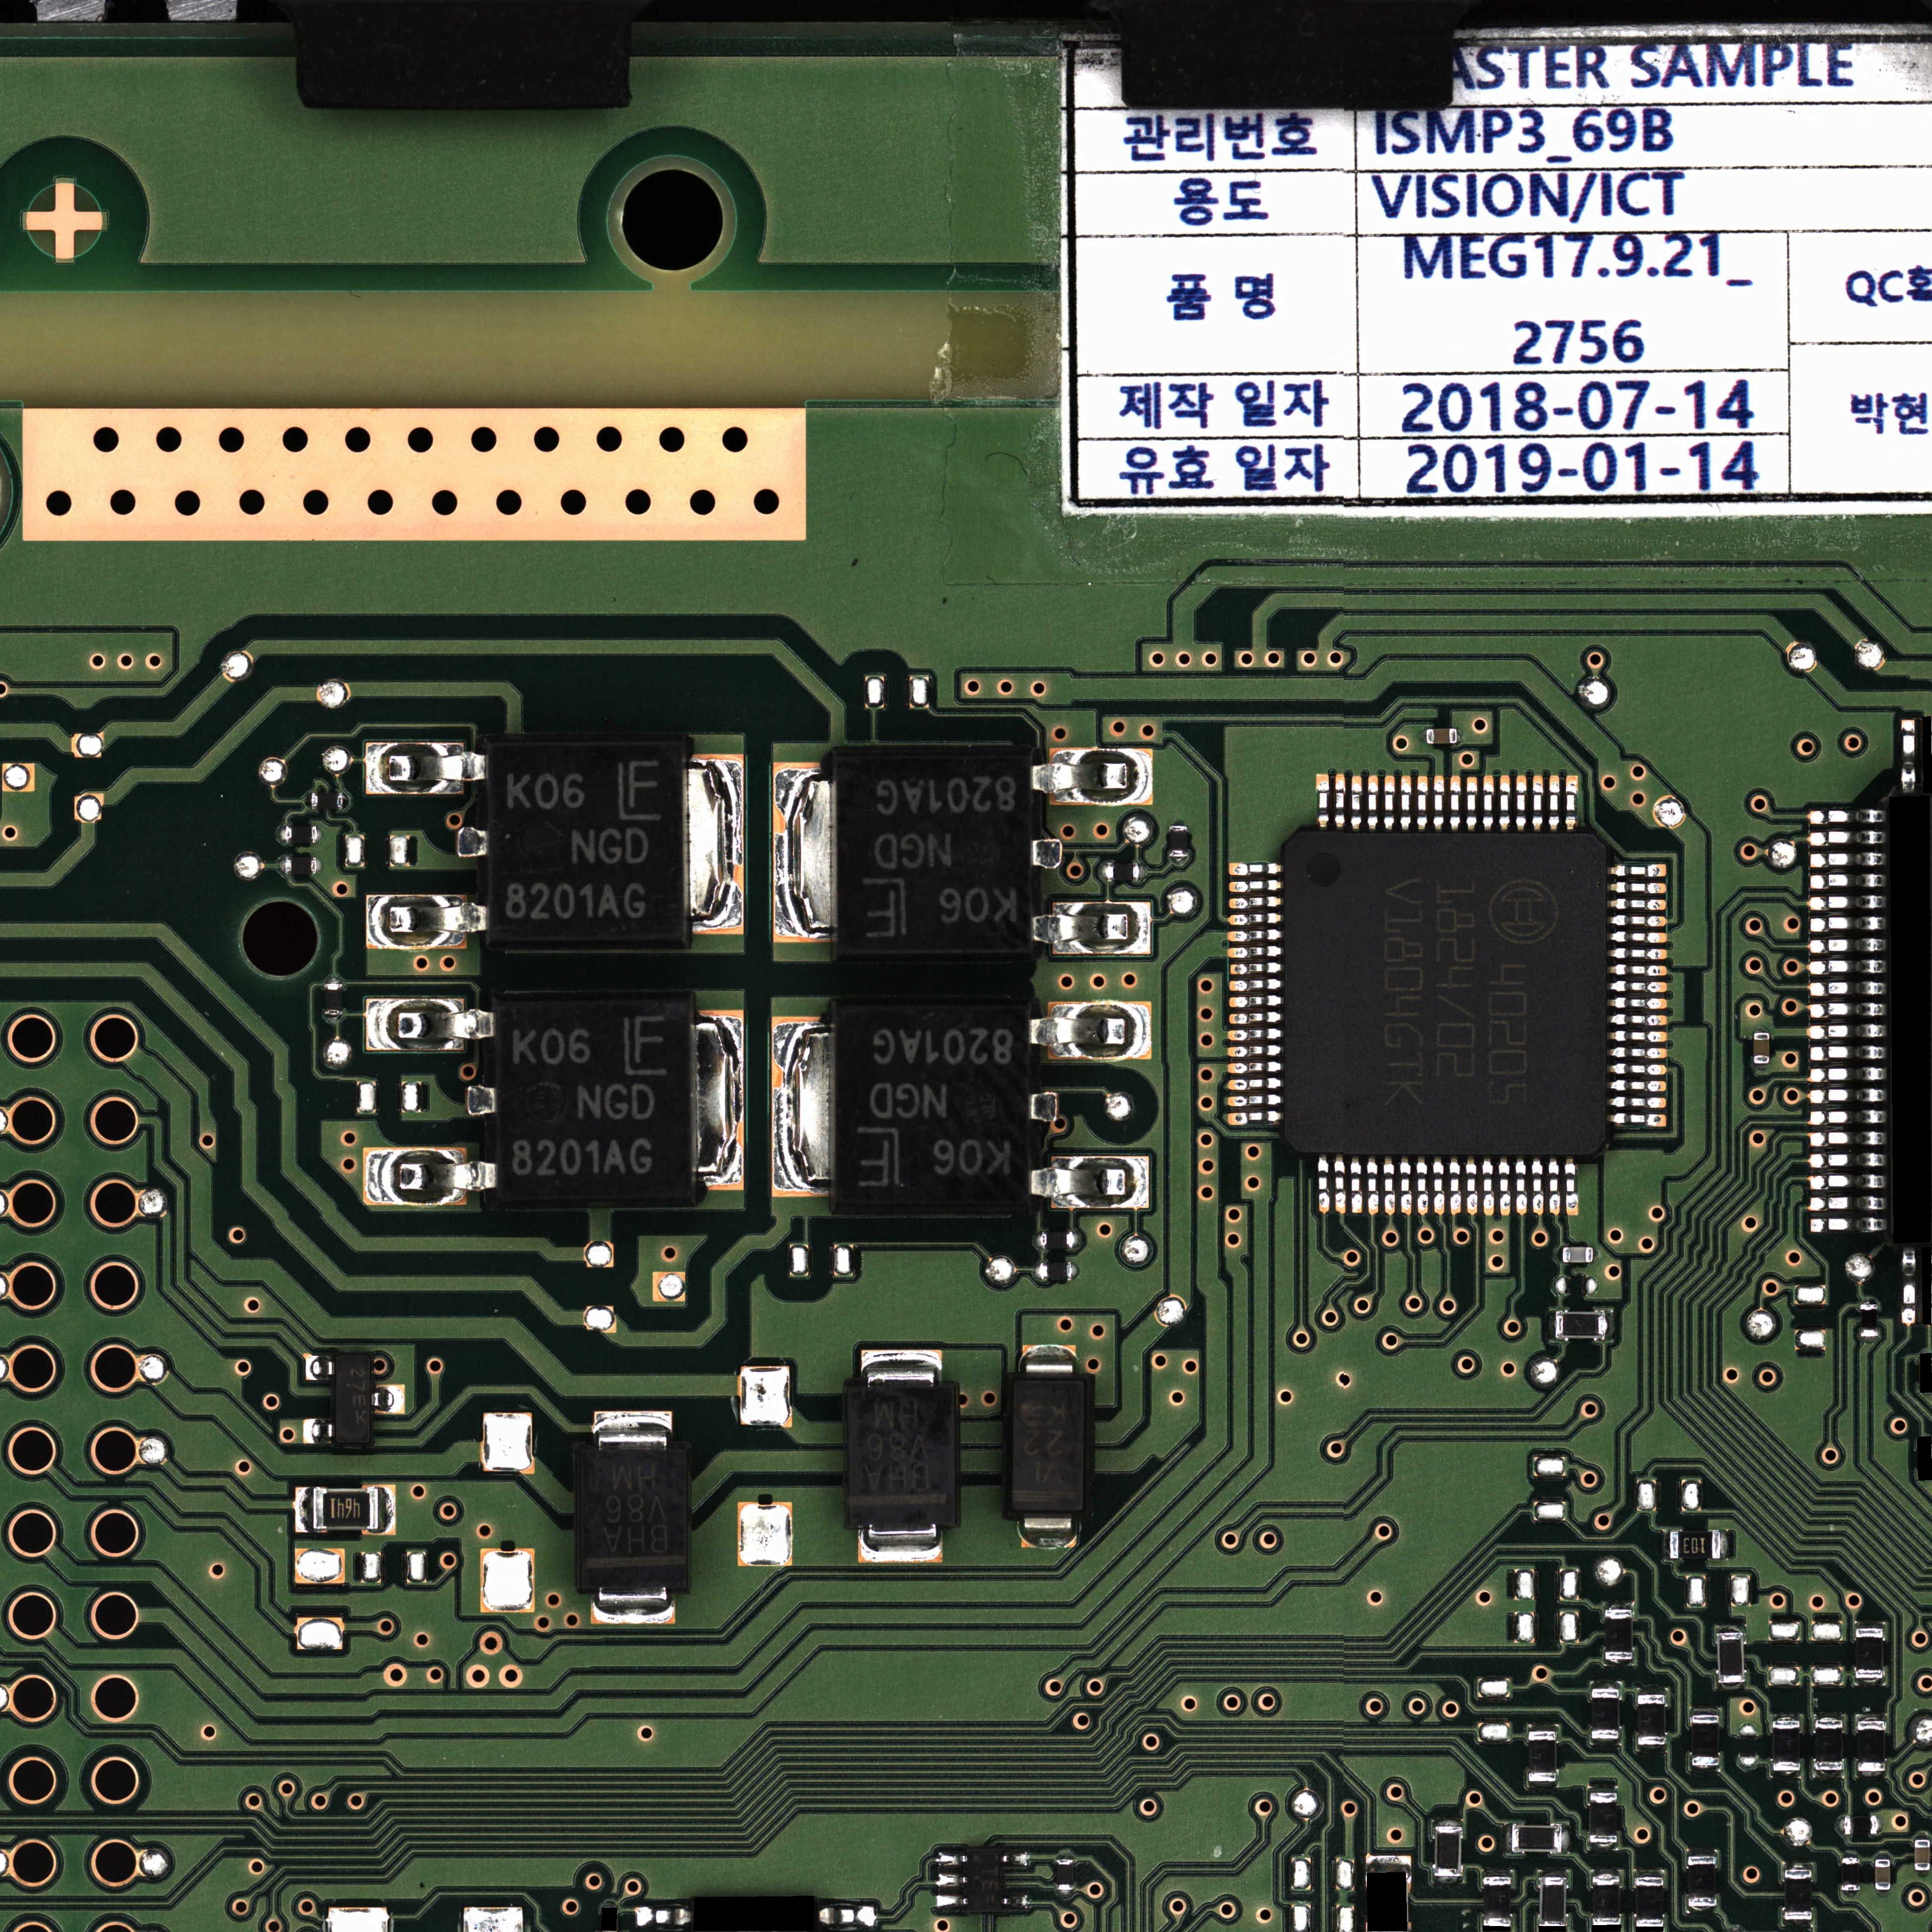Package: (1283, 832, 1608, 1159), (495, 998, 692, 1201), (835, 1008, 1030, 1210), (488, 743, 685, 941), (839, 755, 1031, 952), (846, 1384, 957, 1527), (579, 1444, 688, 1589), (1012, 1378, 1085, 1511), (334, 1353, 372, 1444), (313, 1490, 379, 1530), (968, 1847, 1001, 1911), (1589, 1792, 1617, 1844), (1815, 1720, 1844, 1769), (1605, 1610, 1633, 1660), (1688, 1856, 1716, 1905), (1483, 1877, 1511, 1927), (1635, 1877, 1663, 1927), (1785, 1868, 1812, 1920), (1773, 1720, 1799, 1771), (1592, 1688, 1619, 1739), (1435, 1826, 1461, 1877), (1592, 1877, 1621, 1925), (1529, 1732, 1555, 1782), (1513, 1826, 1562, 1852), (1856, 1628, 1882, 1677), (1638, 1695, 1665, 1744), (1670, 1532, 1720, 1559), (1858, 1721, 1884, 1771), (1691, 1716, 1718, 1766), (1718, 1633, 1744, 1683), (1539, 1877, 1566, 1927), (1555, 1313, 1606, 1338), (1169, 826, 1189, 858), (1106, 863, 1139, 881), (1844, 1817, 1877, 1835), (1040, 1231, 1074, 1249), (285, 826, 317, 844), (1861, 1304, 1879, 1336), (285, 856, 317, 874), (1040, 1263, 1072, 1281), (311, 793, 343, 810), (1842, 1858, 1859, 1890), (1056, 1859, 1074, 1890), (1753, 1033, 1769, 1063), (1914, 1840, 1930, 1870), (1426, 729, 1458, 743), (1875, 1859, 1890, 1890), (1562, 1247, 1592, 1261)
Solder: (773, 761, 839, 943), (771, 1017, 835, 1196), (683, 754, 743, 931), (692, 1010, 743, 1189), (363, 1148, 495, 1205), (1031, 747, 1154, 805), (1030, 1001, 1152, 1060), (366, 893, 488, 950), (366, 998, 495, 1051), (364, 741, 488, 794), (1033, 901, 1152, 955), (1030, 1157, 1148, 1208), (858, 1527, 943, 1562), (591, 1591, 676, 1624), (862, 1348, 941, 1384), (594, 1412, 672, 1442), (1021, 1511, 1076, 1548), (1023, 1345, 1076, 1378), (1808, 1024, 1886, 1040), (1808, 959, 1884, 975), (1808, 982, 1884, 998), (1900, 720, 1916, 793), (635, 1907, 692, 1927), (819, 1907, 876, 1927), (1810, 1217, 1888, 1231), (1808, 1069, 1886, 1083), (1902, 1251, 1916, 1327), (1810, 1196, 1886, 1210), (1810, 1154, 1886, 1168), (1810, 1175, 1886, 1189), (1810, 1088, 1886, 1102), (1810, 1111, 1886, 1125), (1810, 1131, 1886, 1145), (1808, 939, 1884, 954), (1808, 1003, 1884, 1017), (1810, 1046, 1886, 1060), (1810, 874, 1886, 888), (1810, 853, 1886, 867), (1810, 832, 1886, 846), (1810, 895, 1884, 909), (1810, 810, 1884, 824), (456, 826, 488, 858), (465, 1085, 497, 1115), (372, 1385, 405, 1414), (1810, 918, 1884, 931), (1031, 839, 1062, 869), (1030, 1092, 1060, 1122), (294, 1486, 313, 1532), (1366, 1854, 1412, 1874), (1608, 863, 1667, 878), (1610, 1113, 1667, 1127), (379, 1486, 395, 1534), (1228, 1111, 1281, 1125), (303, 1419, 333, 1444), (1608, 1063, 1668, 1076), (1608, 1014, 1668, 1026), (1608, 964, 1668, 977), (1608, 980, 1668, 993), (1608, 998, 1668, 1010), (1610, 931, 1668, 943), (1608, 881, 1667, 893), (1399, 1157, 1412, 1215), (1499, 1157, 1511, 1215), (1608, 899, 1667, 911), (306, 1355, 334, 1380), (1566, 775, 1578, 832), (1316, 773, 1329, 830), (1433, 1159, 1445, 1215), (1433, 775, 1445, 832), (1532, 1159, 1545, 1215), (1350, 1157, 1362, 1214), (1610, 915, 1667, 927), (1384, 1159, 1396, 1215), (1449, 775, 1461, 832), (1566, 1159, 1578, 1215), (1483, 1159, 1495, 1215), (1449, 1159, 1461, 1215), (1548, 1159, 1560, 1215), (1334, 773, 1346, 830), (1334, 1157, 1346, 1214), (1548, 775, 1560, 832), (1532, 775, 1545, 832), (1384, 775, 1396, 832), (1226, 1077, 1281, 1090), (1228, 994, 1283, 1007), (1226, 1062, 1281, 1074), (1226, 1093, 1281, 1106), (1228, 947, 1283, 959), (1226, 1046, 1281, 1058), (1228, 879, 1283, 892), (1228, 863, 1283, 876), (1228, 897, 1281, 909), (1228, 913, 1281, 925), (1228, 929, 1281, 941), (1228, 1012, 1281, 1024), (1228, 1028, 1281, 1040), (1230, 978, 1281, 991), (1230, 962, 1281, 975), (1610, 1031, 1668, 1042), (1610, 948, 1668, 959), (1610, 1047, 1668, 1058), (1610, 1097, 1667, 1108), (1417, 1159, 1428, 1215), (1516, 1159, 1527, 1215), (1610, 1081, 1667, 1092), (1417, 775, 1428, 832), (1467, 1159, 1477, 1215), (1368, 1159, 1378, 1215), (1352, 775, 1362, 832), (1401, 775, 1412, 832), (1516, 775, 1527, 832), (1500, 775, 1511, 832), (1368, 775, 1378, 832), (1483, 775, 1493, 832), (1318, 1157, 1329, 1214), (1467, 777, 1477, 832), (936, 1895, 968, 1907), (1003, 1893, 1028, 1909), (1003, 1852, 1030, 1867), (936, 1874, 966, 1886), (936, 1852, 966, 1865), (1536, 1868, 1569, 1877), (1714, 1624, 1746, 1633), (1606, 1309, 1615, 1341), (1856, 1713, 1888, 1721), (1504, 1822, 1513, 1854), (1484, 1865, 1511, 1875), (1633, 1868, 1665, 1877), (1529, 1723, 1559, 1732), (1605, 1601, 1635, 1610), (1433, 1817, 1463, 1826), (1562, 1824, 1571, 1854), (1637, 1686, 1667, 1695), (1720, 1530, 1729, 1560), (1591, 1868, 1621, 1877), (1714, 1683, 1748, 1690), (1854, 1679, 1886, 1686), (1813, 1771, 1845, 1778), (1854, 1621, 1886, 1628), (1782, 1861, 1813, 1868), (1782, 1920, 1813, 1927), (1548, 1309, 1555, 1341), (1587, 1844, 1619, 1851), (1813, 1713, 1845, 1720), (1637, 1744, 1668, 1752), (1591, 1681, 1621, 1688), (1690, 1707, 1720, 1714), (1688, 1905, 1718, 1913), (1605, 1660, 1635, 1667), (1686, 1849, 1716, 1856), (1433, 1877, 1463, 1884), (1690, 1766, 1720, 1773), (1856, 1771, 1886, 1778), (1589, 1785, 1617, 1792), (1527, 1782, 1559, 1787), (1771, 1714, 1803, 1720), (1771, 1771, 1801, 1776), (1591, 1739, 1621, 1744), (1663, 1530, 1668, 1560), (1072, 1261, 1079, 1281), (1169, 858, 1189, 865), (1169, 819, 1187, 826), (1056, 1852, 1074, 1859), (1861, 1297, 1879, 1304), (1861, 1336, 1879, 1343), (1056, 1890, 1074, 1897), (1074, 1231, 1081, 1249), (602, 1900, 619, 1907), (1592, 1247, 1599, 1263), (317, 826, 324, 842), (1877, 1817, 1884, 1833), (1836, 1817, 1844, 1833), (1458, 729, 1465, 743), (1419, 729, 1426, 743), (1557, 1247, 1562, 1263), (317, 858, 322, 874), (1842, 1852, 1858, 1858), (343, 793, 349, 809), (1875, 1890, 1891, 1895), (1753, 1063, 1769, 1069), (1035, 1263, 1040, 1279), (280, 826, 285, 842), (1753, 1028, 1769, 1033), (306, 793, 311, 809), (1139, 865, 1145, 879), (1875, 1854, 1890, 1859), (1916, 1835, 1930, 1840), (280, 858, 285, 872), (1100, 865, 1106, 879), (1842, 1891, 1859, 1895), (1914, 1870, 1930, 1874)
